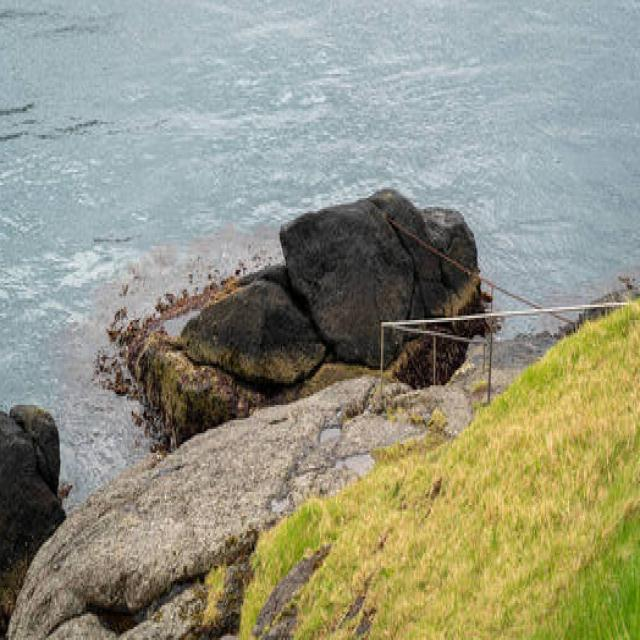reef: (8, 178, 472, 523)
